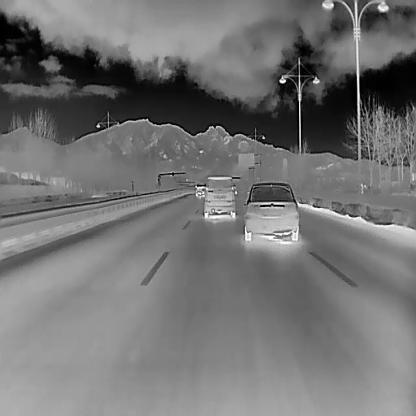car: (243, 182, 299, 240), (203, 174, 235, 218), (194, 182, 206, 197)
